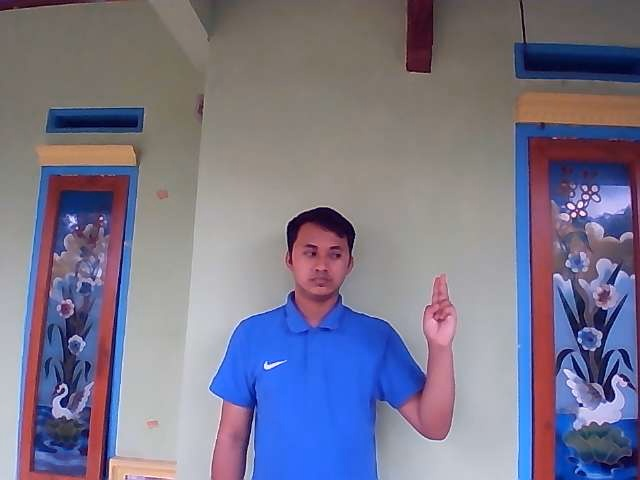U: (421, 274, 457, 343)
